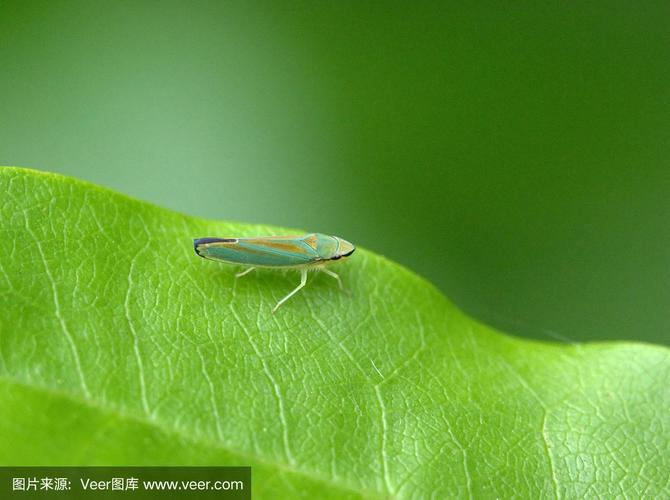Cicadellidae: (193, 235, 355, 280)
